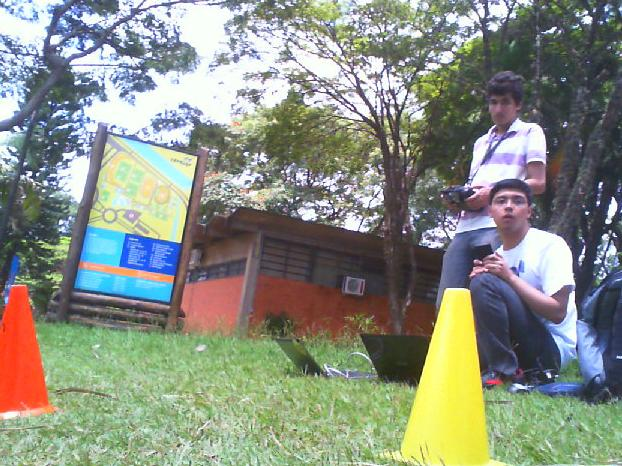0 cone: (378, 287, 507, 466), (0, 285, 56, 420)
